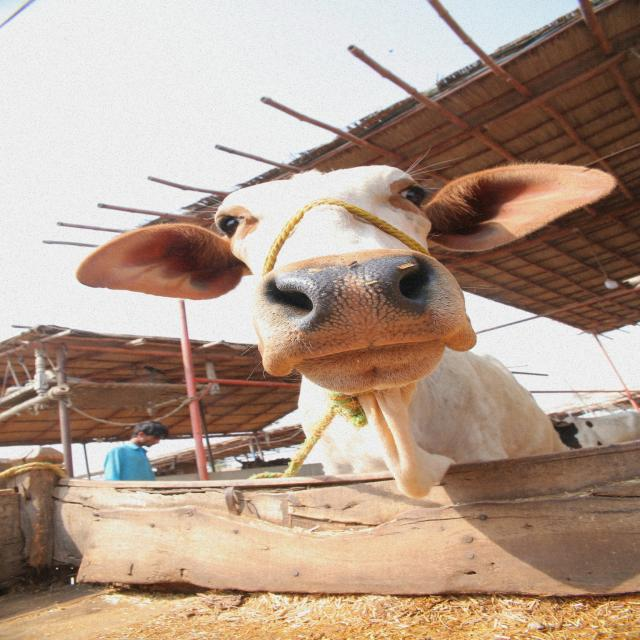muzzles: (264, 256, 462, 358)
